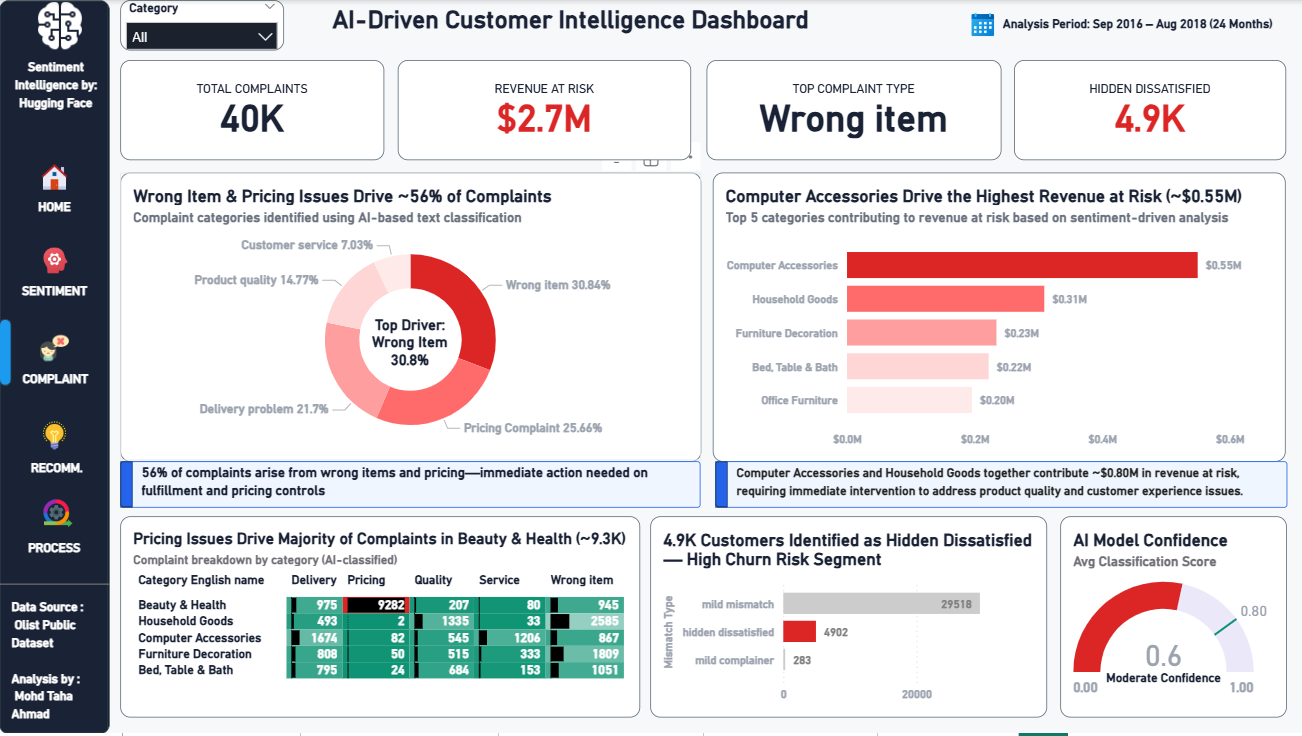

The page's visual inventory and layout, read from the dashboard file:
{"tool":"powerbi","page":{"name":"Complaint Intelligence","canvas":[1280,720],"ordinal":2},"visuals":[{"type":"shape","box":[0,0,108.4,720.4],"z":0},{"type":"textbox","box":[6.9,580.4,104.3,140],"z":1000},{"type":"textbox","box":[980.4,8.6,283.4,31.9],"z":2000},{"type":"image","box":[950.9,8.6,29.4,31.9],"z":3000},{"type":"slicer","fields":{"Values":["category_health_table.Category English"]},"box":[119.4,0,160.5,49.4],"z":4000},{"type":"textbox","box":[279.9,0,562.6,43.9],"z":5000},{"type":"donutChart","title":"Wrong Item & Pricing Issues Drive ~56% of Complaints","fields":{"Category":["complaint_analysis_table.complaint type english"],"Y":["Sum(complaint_analysis_table.compplaint_count)"]},"box":[119.4,169,570,284],"z":6000},{"type":"pivotTable","title":"Pricing Issues Drive Majority of Complaints in Beauty & Health (~9.3K)","fields":{"Rows":["complaint_analysis_table.Category English name"],"Values":["Sum(complaint_analysis_table.compplaint_count)"],"Columns":["complaint_analysis_table.short complaint category"]},"box":[119.4,506.3,510.5,197.6],"z":7000},{"type":"textbox","box":[119.4,452.8,569.5,45.3],"z":8000},{"type":"shape","box":[119.4,452.8,12.3,45.3],"z":9000},{"type":"cardVisual","fields":{"Data":["Sum(complaint_analysis_table.compplaint_count)"]},"box":[119.4,59,259.3,98.8],"z":10000},{"type":"cardVisual","fields":{"Data":["Min(complaint_analysis_table.short complaint category)"]},"box":[694.3,59,289.5,98.8],"z":11000},{"type":"cardVisual","fields":{"Data":["complaint_analysis_table.REVENUE AT RISK"]},"box":[391.1,59,288.2,98.8],"z":12000},{"type":"cardVisual","fields":{"Data":["Sum(mismatch_overall.customer_count)"]},"box":[996.2,59,267.6,98.8],"z":13000},{"type":"image","box":[39.8,157.8,30.2,30.2],"z":14000},{"type":"textbox","box":[31.6,188,45.3,34.3],"z":15000},{"type":"image","box":[11,0,97.4,50.8],"z":16000},{"type":"textbox","box":[4.1,50.8,104.3,68.6],"z":17000},{"type":"clusteredBarChart","title":"Computer Accessories Drive the Highest Revenue at Risk (~$0.55M)","fields":{"Category":["complaint_analysis_table.Category English name"],"Y":["complaint_analysis_table.REVENUE AT RISK"]},"box":[701.2,168.8,562.6,284],"z":18000},{"type":"clusteredBarChart","title":"4.9K Customers Identified as Hidden Dissatisfied — High Churn Risk Segment","fields":{"Y":["Sum(mismatch_overall.customer_count)"],"Category":["mismatch_overall.mismatch_type"]},"box":[639.5,506.3,389.7,197.6],"z":19000},{"type":"gauge","title":"AI Model Confidence","fields":{"Y":["Avg(complaint_analysis_table.avg_confidence_score)"]},"box":[1041.5,506.3,222.3,197.6],"z":20000},{"type":"textbox","box":[702.6,452.8,561.2,45.3],"z":21000},{"type":"shape","box":[702.6,452.8,12.3,45.3],"z":22000},{"type":"textbox","box":[360.9,304.6,85.1,74.1],"z":23000},{"type":"textbox","box":[1077.2,650.4,131.7,30.2],"z":24000},{"type":"image","box":[39.8,240.1,30.2,30.2],"z":25000},{"type":"textbox","box":[2.7,270.3,104.3,34.3],"z":26000},{"type":"textbox","box":[13.7,356.8,83.7,31.6],"z":27000},{"type":"shape","box":[0,558.5,108.4,30.2],"z":28000},{"type":"image","box":[39.8,326.6,30.2,30.2],"z":29000},{"type":"shape","box":[0,312.9,12.3,65.9],"z":30000},{"type":"image","box":[39.8,411.7,30.2,30.2],"z":31000},{"type":"textbox","box":[15.1,444.6,83.7,31.6],"z":32000},{"type":"textbox","box":[0,522.8,108.4,31.6],"z":33000},{"type":"image","box":[41.2,488.5,30.2,30.2],"z":34000}]}

Visuals, with their boxes on the page's 1280x720 design canvas (x1, y1, x2, y2). These are canvas units, not pixel positions in the 1302x736 screenshot, which may show the page scaled, cropped or inside an application window:
shape: <region>0, 0, 108, 720</region>
textbox: <region>7, 580, 111, 720</region>
textbox: <region>980, 9, 1264, 40</region>
image: <region>951, 9, 980, 40</region>
slicer - category_health_table.Category English: <region>119, 0, 280, 49</region>
textbox: <region>280, 0, 842, 44</region>
"Wrong Item & Pricing Issues Drive ~56% of Complaints" donutChart: <region>119, 169, 689, 453</region>
"Pricing Issues Drive Majority of Complaints in Beauty & Health (~9.3K)" pivotTable: <region>119, 506, 630, 704</region>
textbox: <region>119, 453, 689, 498</region>
shape: <region>119, 453, 132, 498</region>
cardVisual - Sum(complaint_analysis_table.compplaint_count): <region>119, 59, 379, 158</region>
cardVisual - Min(complaint_analysis_table.short complaint category): <region>694, 59, 984, 158</region>
cardVisual - complaint_analysis_table.REVENUE AT RISK: <region>391, 59, 679, 158</region>
cardVisual - Sum(mismatch_overall.customer_count): <region>996, 59, 1264, 158</region>
image: <region>40, 158, 70, 188</region>
textbox: <region>32, 188, 77, 222</region>
image: <region>11, 0, 108, 51</region>
textbox: <region>4, 51, 108, 119</region>
"Computer Accessories Drive the Highest Revenue at Risk (~$0.55M)" clusteredBarChart: <region>701, 169, 1264, 453</region>
"4.9K Customers Identified as Hidden Dissatisfied — High Churn Risk Segment" clusteredBarChart: <region>640, 506, 1029, 704</region>
"AI Model Confidence" gauge: <region>1042, 506, 1264, 704</region>
textbox: <region>703, 453, 1264, 498</region>
shape: <region>703, 453, 715, 498</region>
textbox: <region>361, 305, 446, 379</region>
textbox: <region>1077, 650, 1209, 681</region>
image: <region>40, 240, 70, 270</region>
textbox: <region>3, 270, 107, 305</region>
textbox: <region>14, 357, 97, 388</region>
shape: <region>0, 558, 108, 589</region>
image: <region>40, 327, 70, 357</region>
shape: <region>0, 313, 12, 379</region>
image: <region>40, 412, 70, 442</region>
textbox: <region>15, 445, 99, 476</region>
textbox: <region>0, 523, 108, 554</region>
image: <region>41, 488, 71, 519</region>
